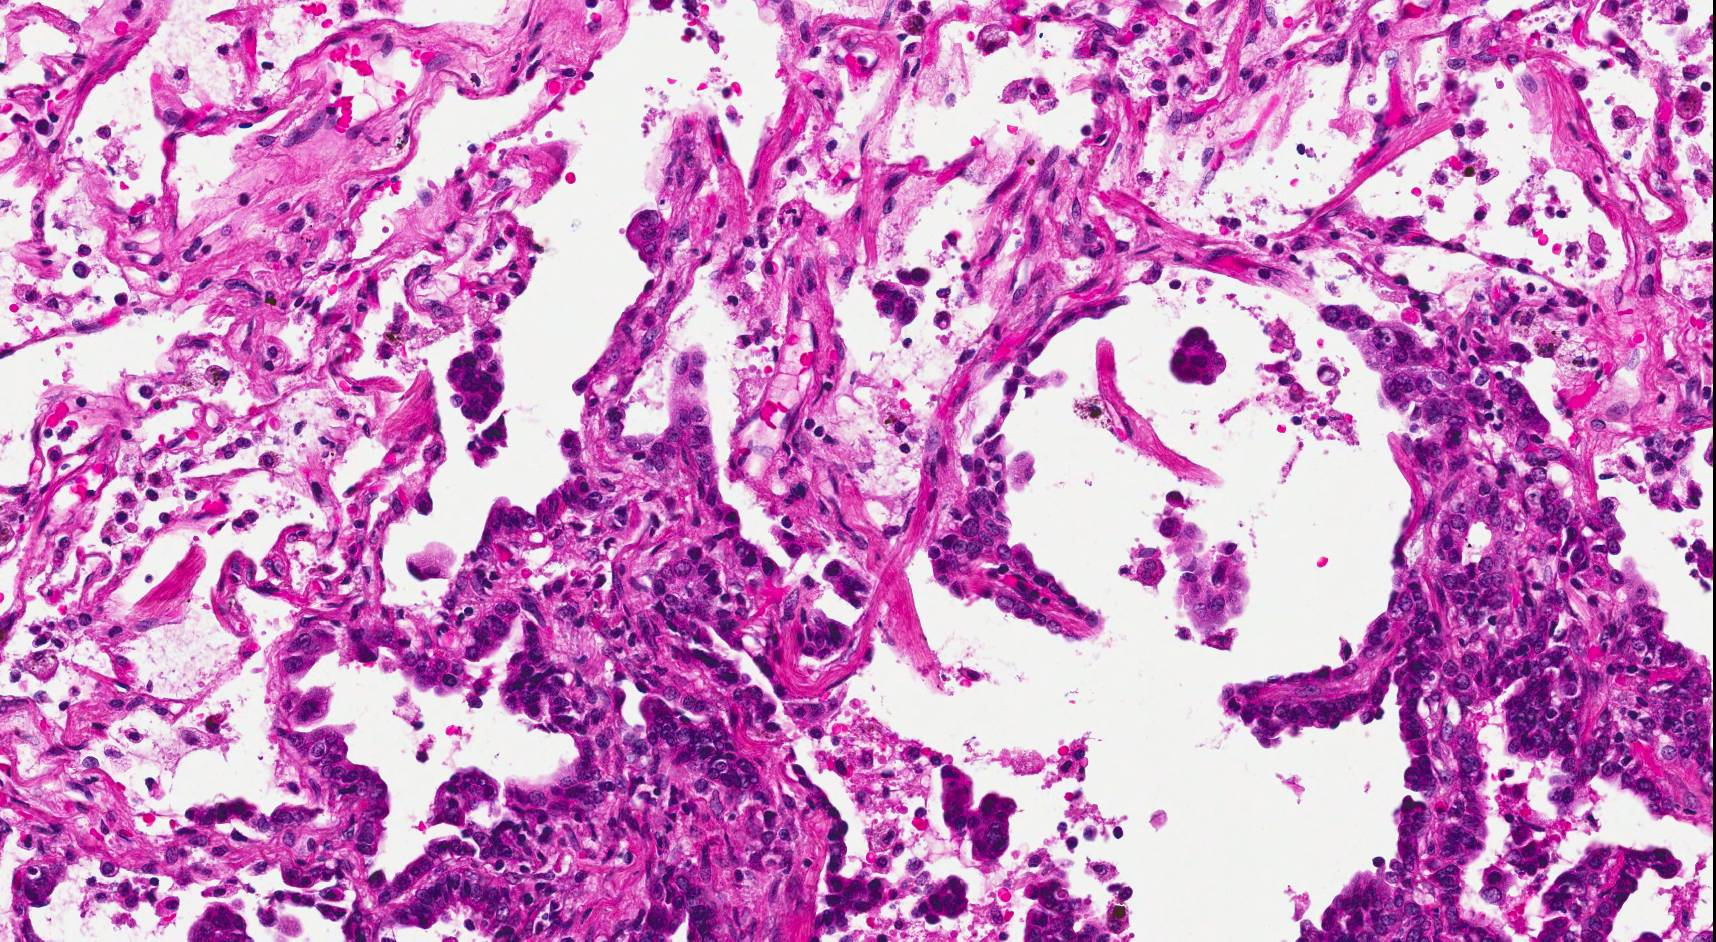stas: (930, 758, 1021, 861), (442, 334, 507, 425), (866, 260, 942, 329), (1166, 324, 1240, 393), (907, 873, 972, 925), (464, 410, 512, 470)
